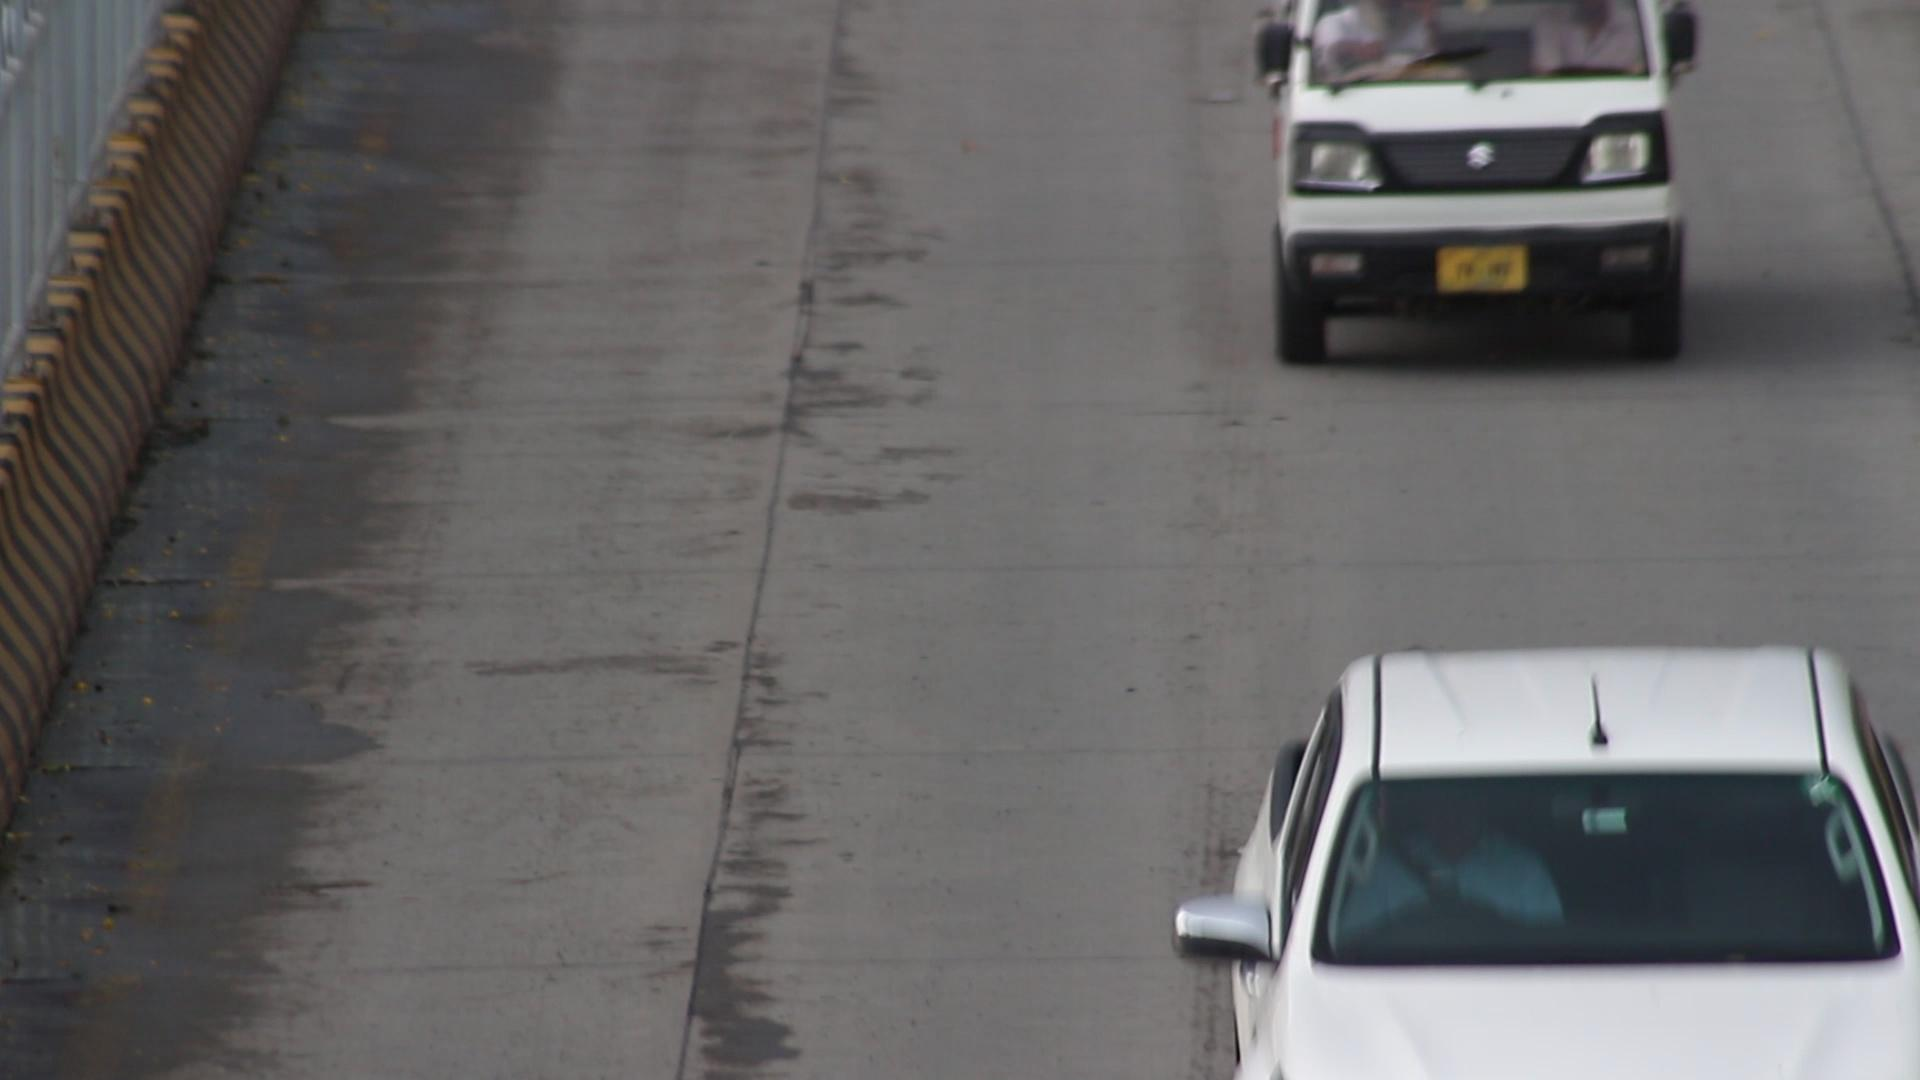windshield: (1307, 750, 1913, 980)
